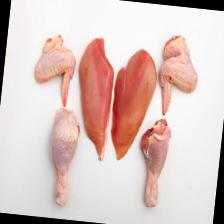chicken: (106, 46, 160, 164), (69, 36, 118, 162), (154, 32, 202, 119), (44, 107, 82, 207), (134, 114, 173, 210), (32, 32, 78, 108)
